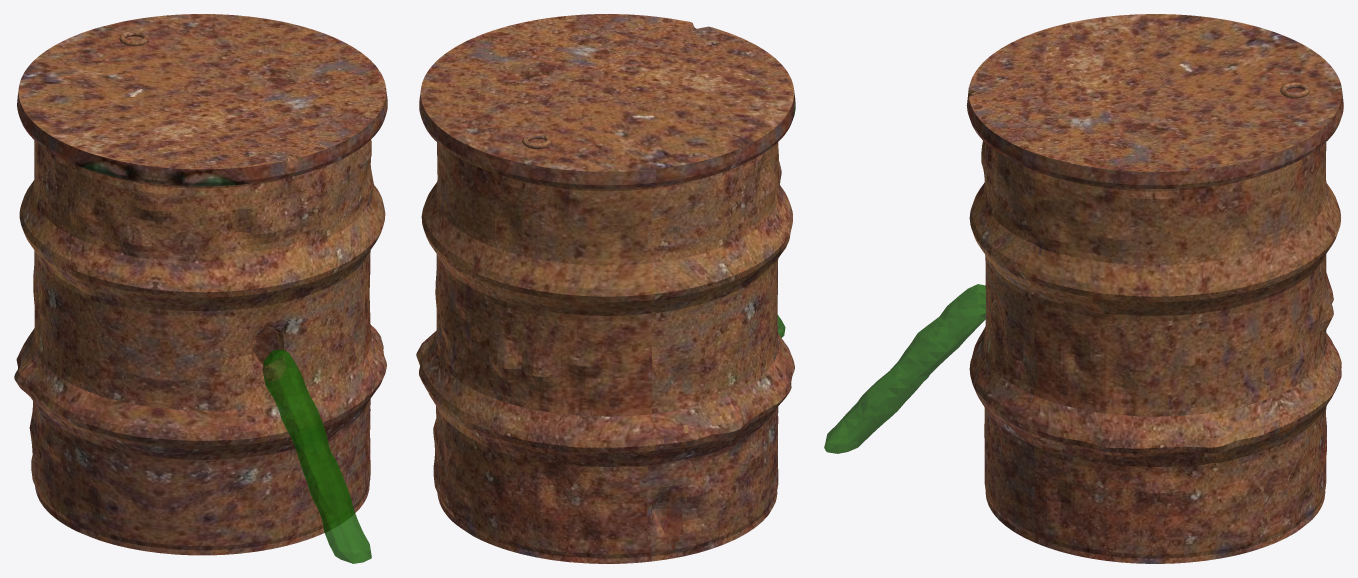
File: bidon_toxique.fbx
3 renders of one model, left to right at view 1: azimuth 30°, elevation 25°; view 2: azimuth 150°, elevation 25°; view 3: azimuth 270°, elevation 25°, orthographic.
Visible parts, largest first — view 1: Circle, Cube; view 2: Circle; view 3: Circle, Cube.
Part boxes in pixels (bbox=[...]): Circle: bbox=[14, 14, 387, 555]; Cube: bbox=[263, 349, 371, 563]; Circle: bbox=[416, 14, 795, 563]; Circle: bbox=[966, 14, 1343, 563]; Cube: bbox=[824, 284, 985, 453].
Size of the model in its own units: 243 by 287 by 335.
